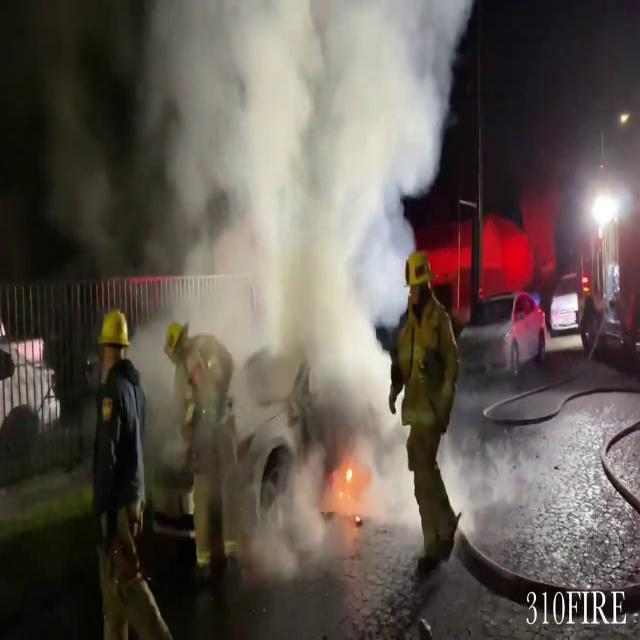Fire: (332, 446, 361, 506)
Smoke: (102, 0, 454, 569)
